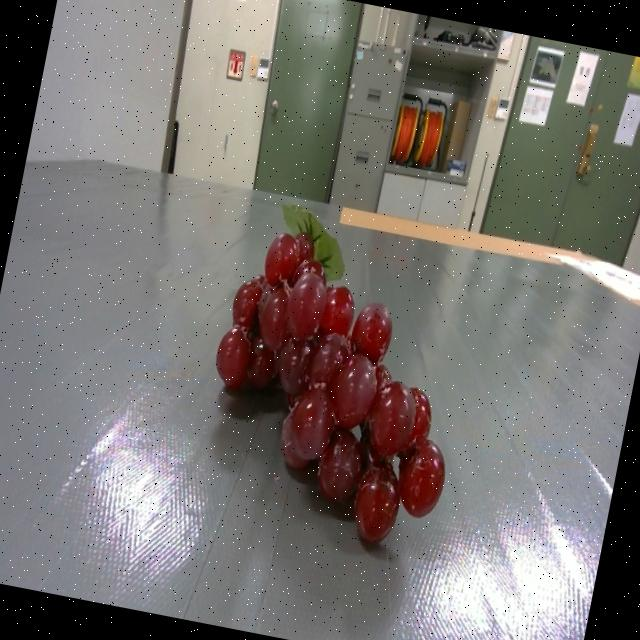grape: (215, 205, 444, 539)
